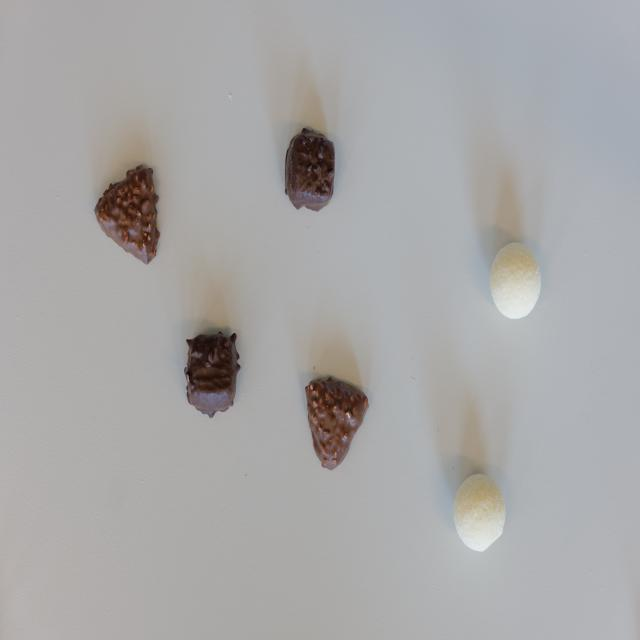Comtesse: (452, 472, 506, 551), (488, 243, 542, 321)
Tentation_noir: (184, 332, 240, 417), (284, 127, 336, 212)
Triangolo: (94, 164, 160, 266), (306, 376, 368, 472)
